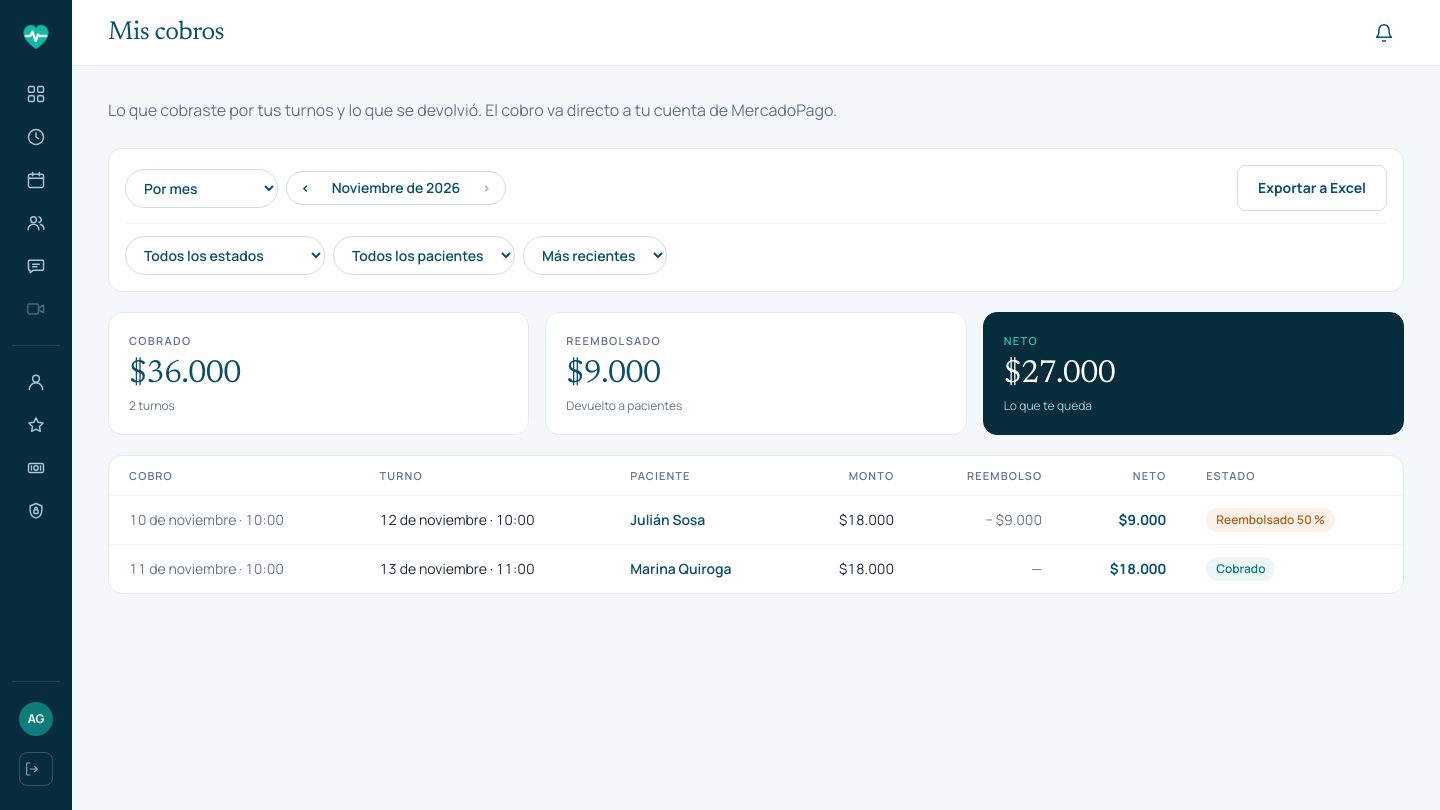
Scenario: ProfessionalEarningsPage (ENG-194) › con filtros y sin resultados lo dice así
This screenshot has width=1440, height=810.
Expected: the cell "Julián Sosa" is shown, [610, 496, 792, 545]
Step 1. Select "Reembolsado" in the 2nd dropdown named "Estado" → point(225, 256), box [125, 236, 325, 275]
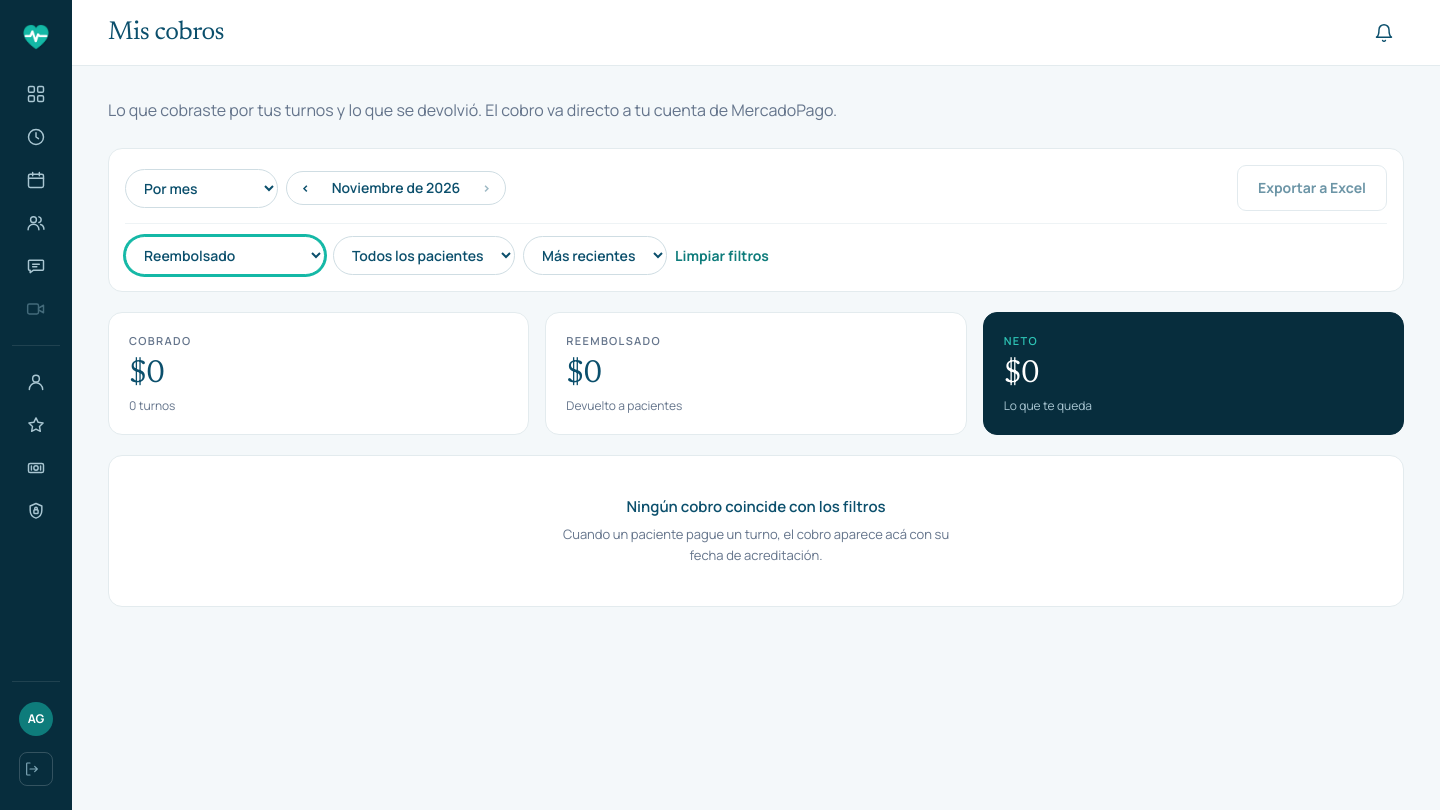
Now the heading "Ningún cobro coincide con los filtros" is shown, box [626, 496, 886, 518]
